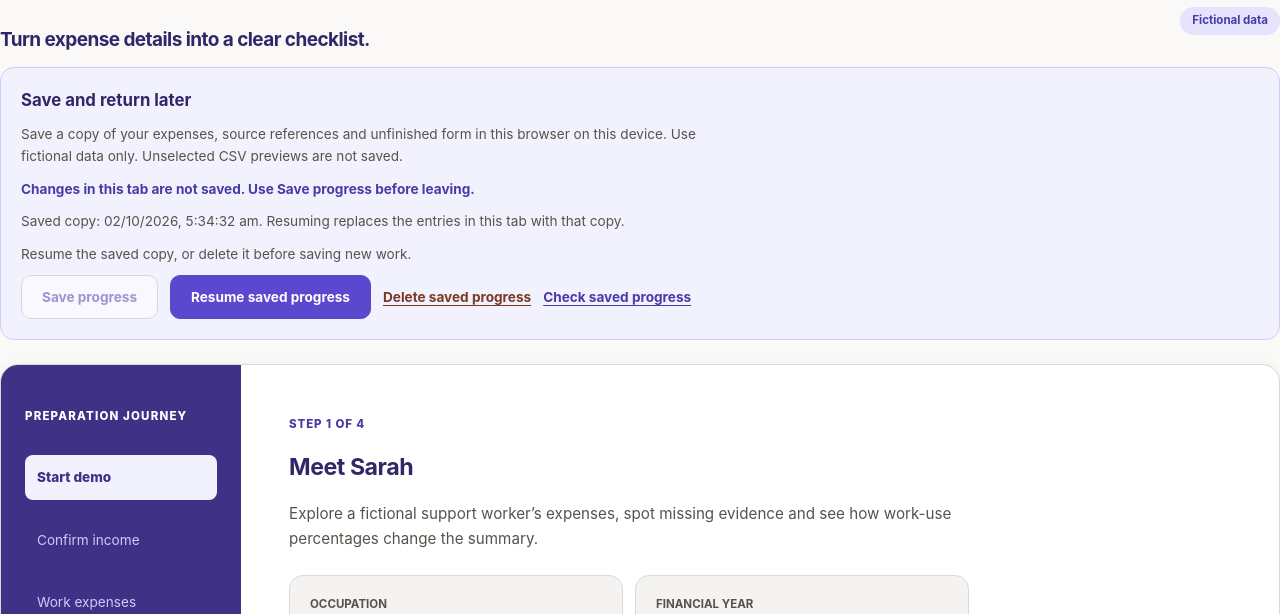
restores an edit separately from its committed record and rechecks the summary after cancel
This screenshot has width=1280, height=614.
Click the button "Resume saved progress" at (270, 297), box [170,275,371,319]
(page scrolled)
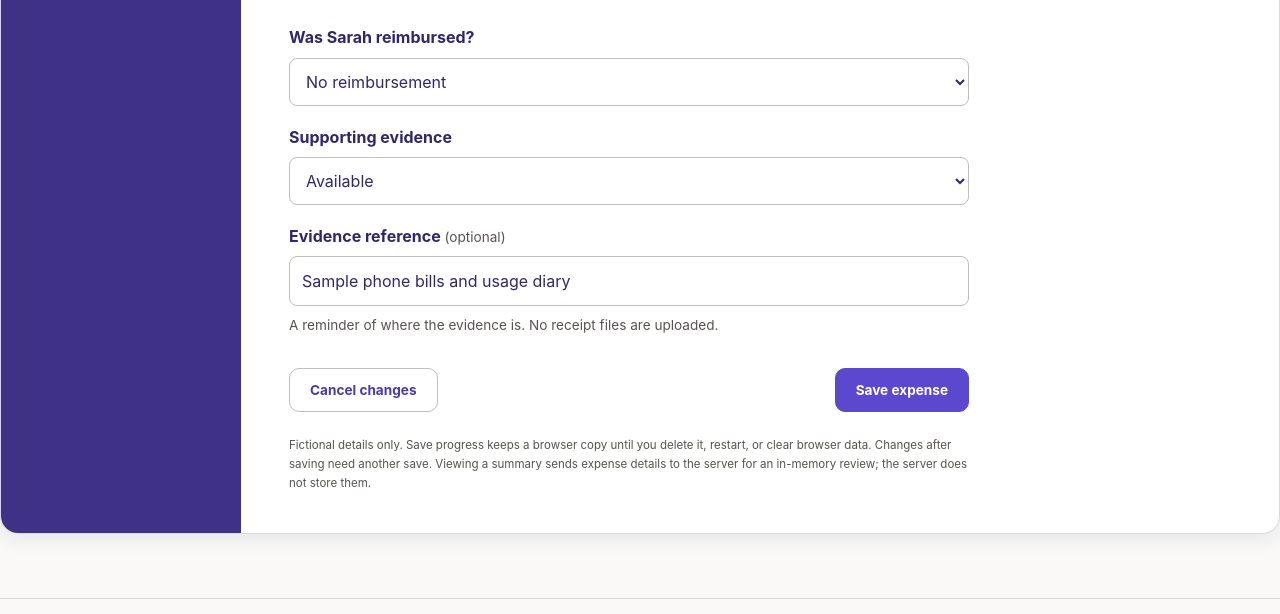
Click the button "Cancel changes" at (363, 390), box [289,368,438,412]
(page scrolled)
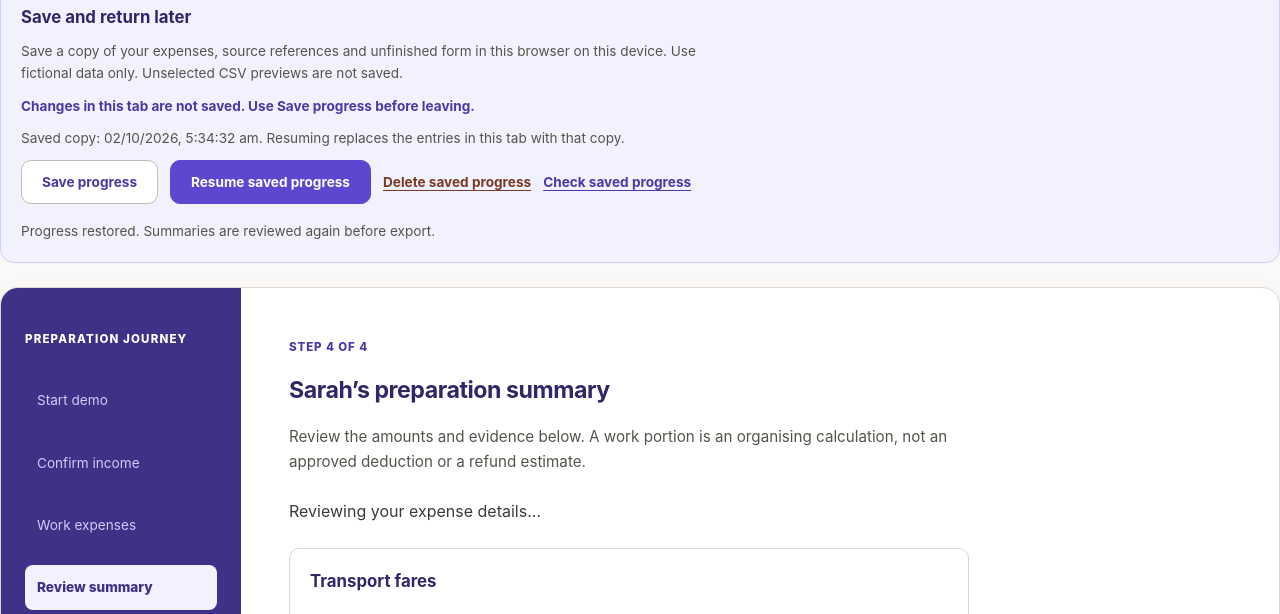
Result: the text "Reviewing your expense details…" is shown at [289,501,541,521]
